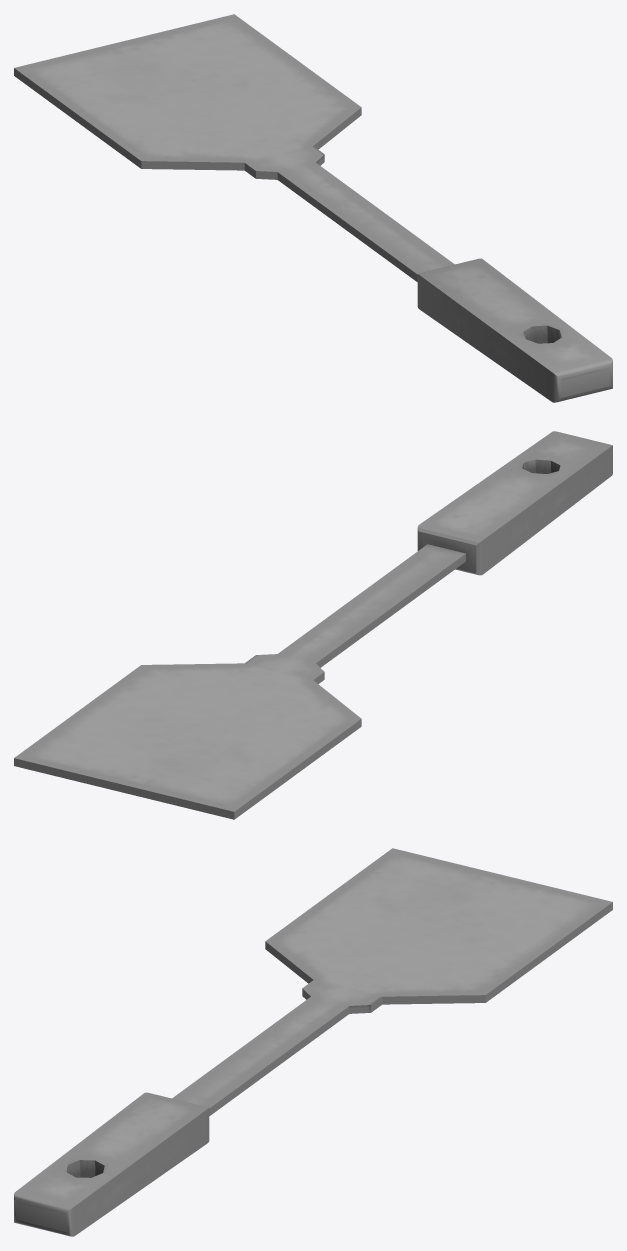
Rendered from spatula.fbx.
3 views of the same model, one above another, from view 1: azimuth 30°, elevation 25°; view 2: azimuth 150°, elevation 25°; view 3: azimuth 330°, elevation 25° (orthographic).
Parts seen in each view (by area): view 1: spatula; view 2: spatula; view 3: spatula.
Boxes of the visible parts, <box> form: spatula: <box>14,14,612,402</box>; spatula: <box>14,431,612,819</box>; spatula: <box>14,848,612,1236</box>.
Size of the model in its own units: 16.23 by 2.43 by 58.86.
